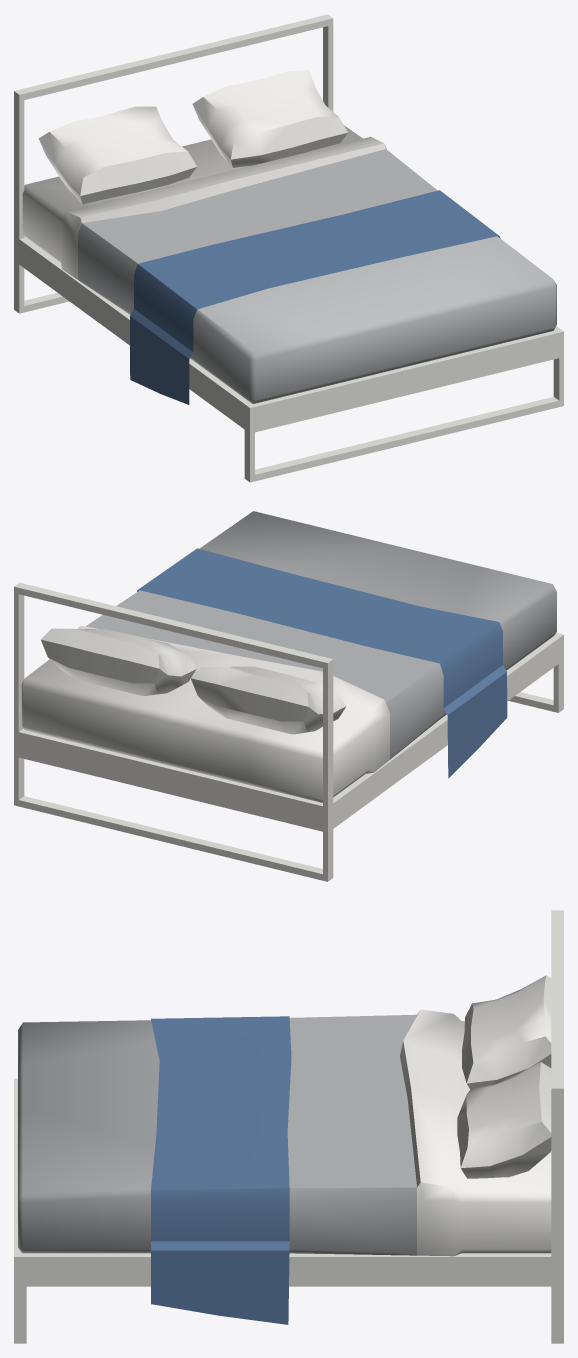
The model's file is pk_bediron_white.glb.
3 views of the same model, one above another, from view 1: azimuth 30°, elevation 25°; view 2: azimuth 150°, elevation 25°; view 3: azimuth 270°, elevation 25° (orthographic). The views are drawn at different scales.
Visible parts, largest first — view 1: pk_bediron_white; view 2: pk_bediron_white; view 3: pk_bediron_white.
Boxes of the visible parts, <box> form: pk_bediron_white: <box>14,14,563,482</box>; pk_bediron_white: <box>14,511,563,881</box>; pk_bediron_white: <box>14,910,563,1343</box>.
Bounding box in the file's own units: 1.75 × 1.15 × 2.25.
Materials: 1 (1 with a texture image).
